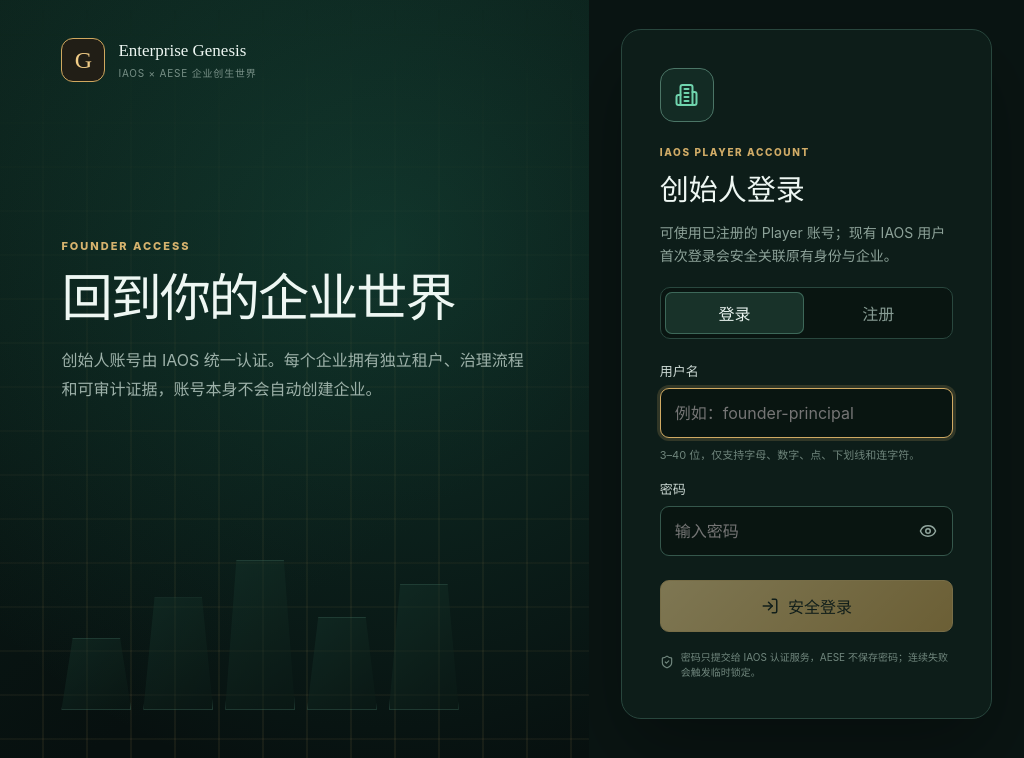
Test case: AESE game home › registers a Player identity before showing the enterprise lobby
Click the tab "注册" at (878, 313), box x1=808 y1=292 x2=948 y2=334
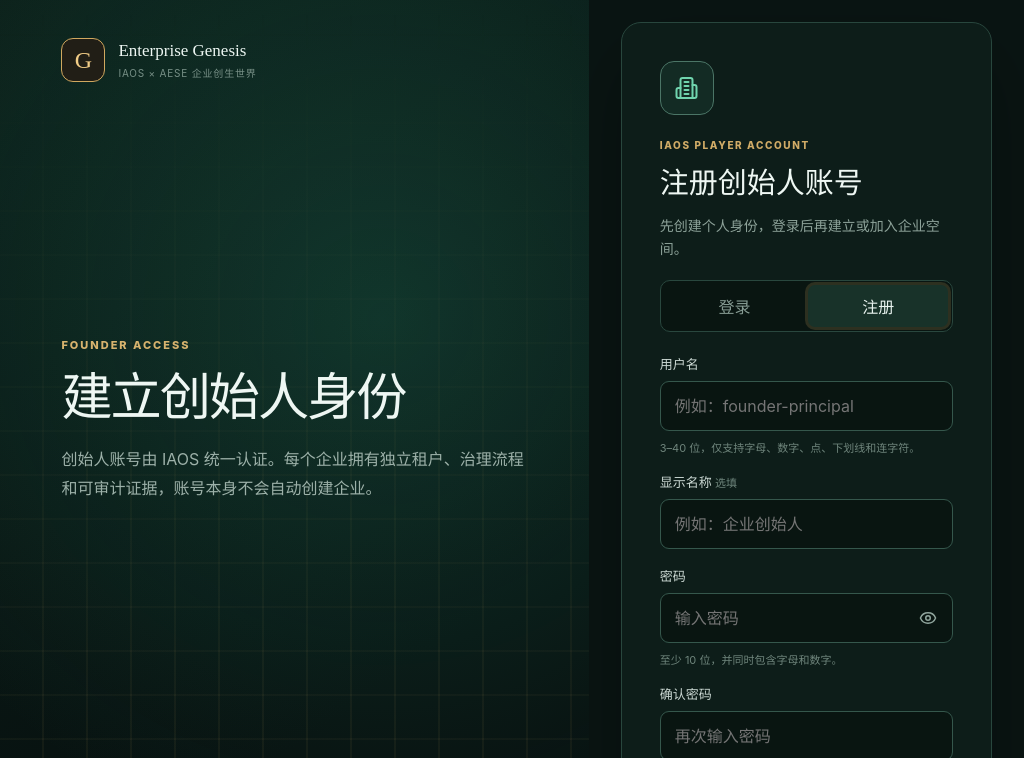
Type "new-founder" into the field labelled "用户名" at (806, 406), box x1=660 y1=381 x2=953 y2=431
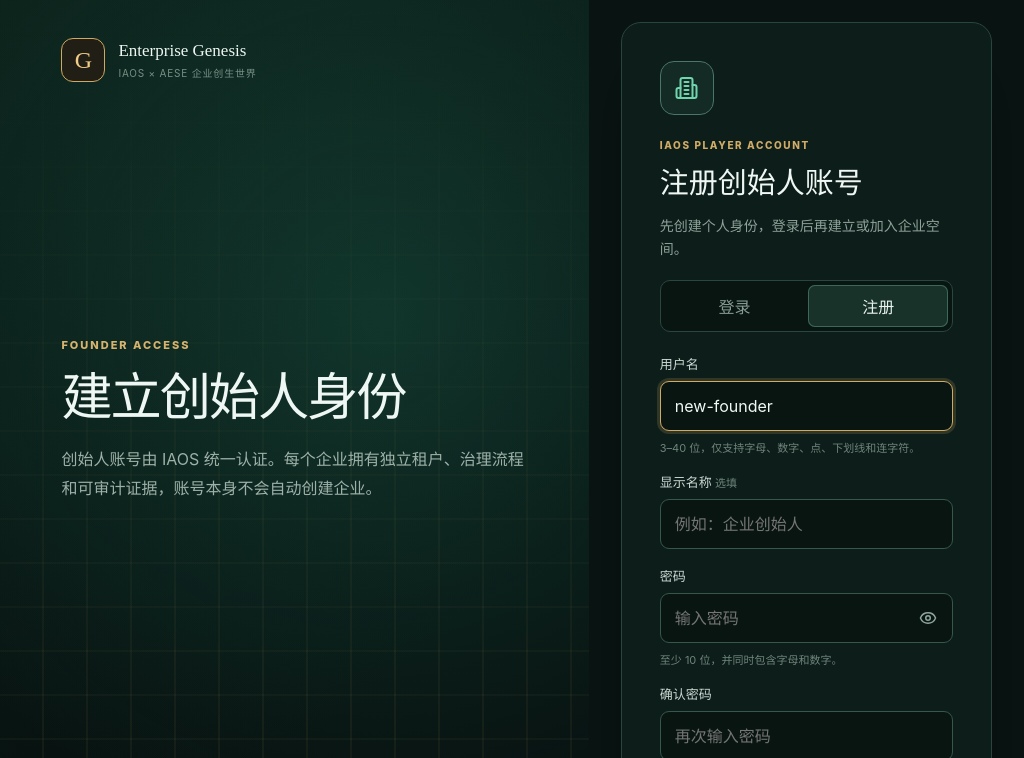
Type "新创始人" into the field labelled "显示名称 选填" at (806, 524), box x1=660 y1=499 x2=953 y2=549
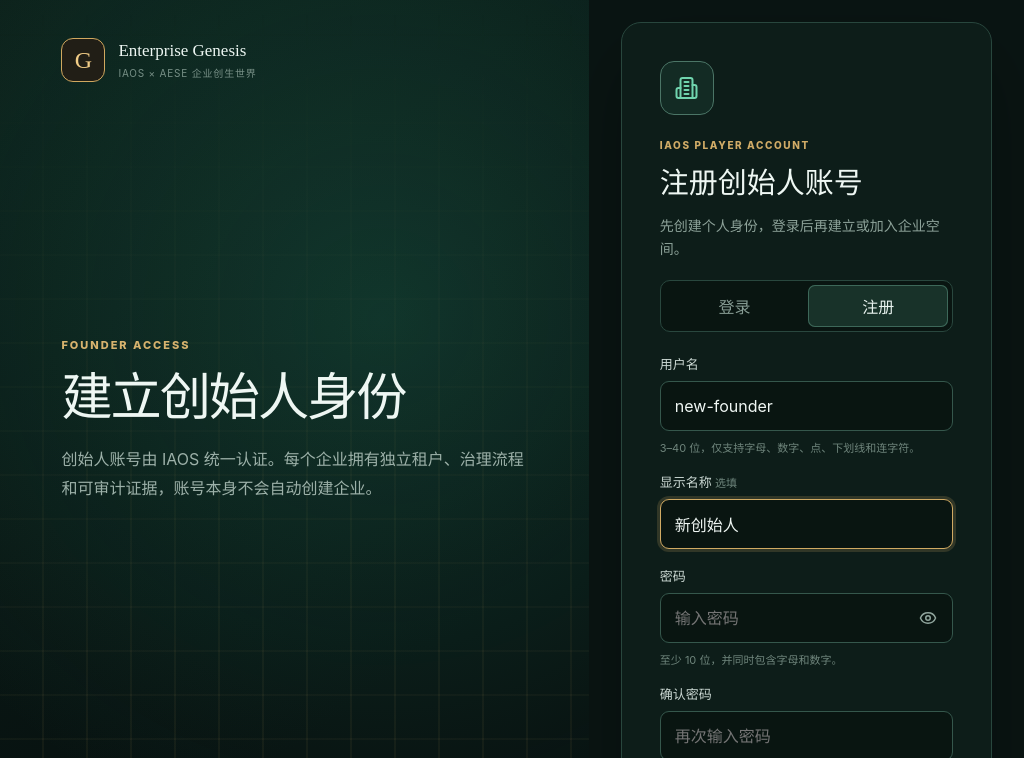
Type "NewFounder2026" into the password field labelled "密码" at (806, 618), box x1=660 y1=593 x2=953 y2=643
(page scrolled)
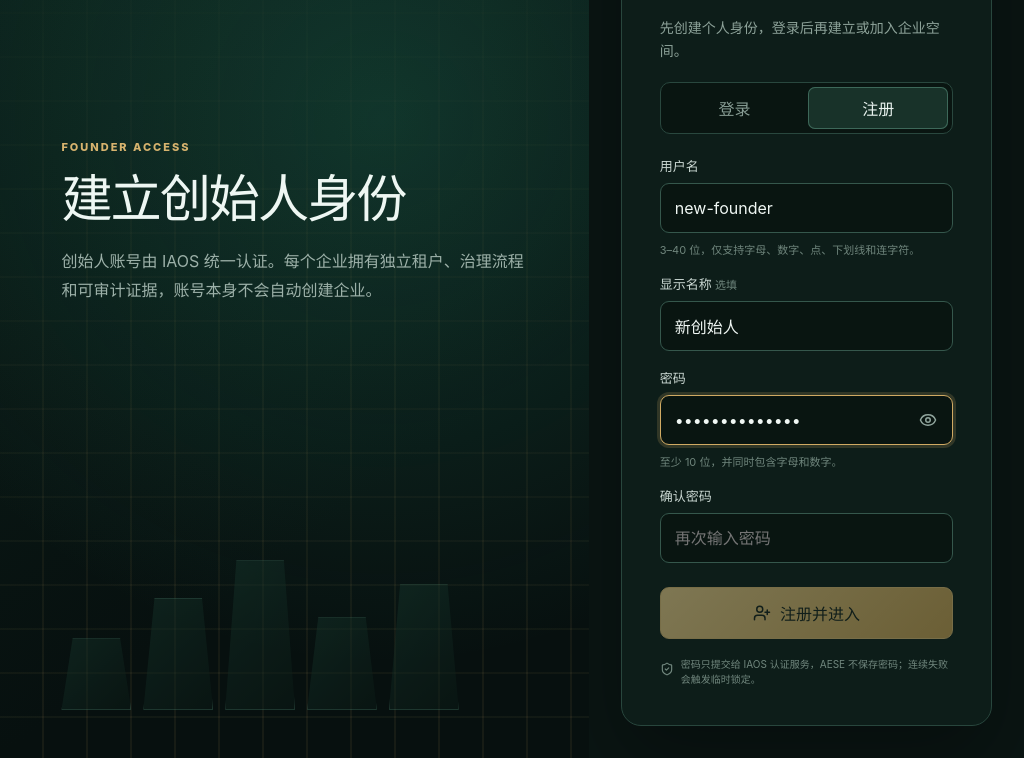
Type "NewFounder2026" into the password field labelled "确认密码" at (806, 538), box x1=660 y1=513 x2=953 y2=563
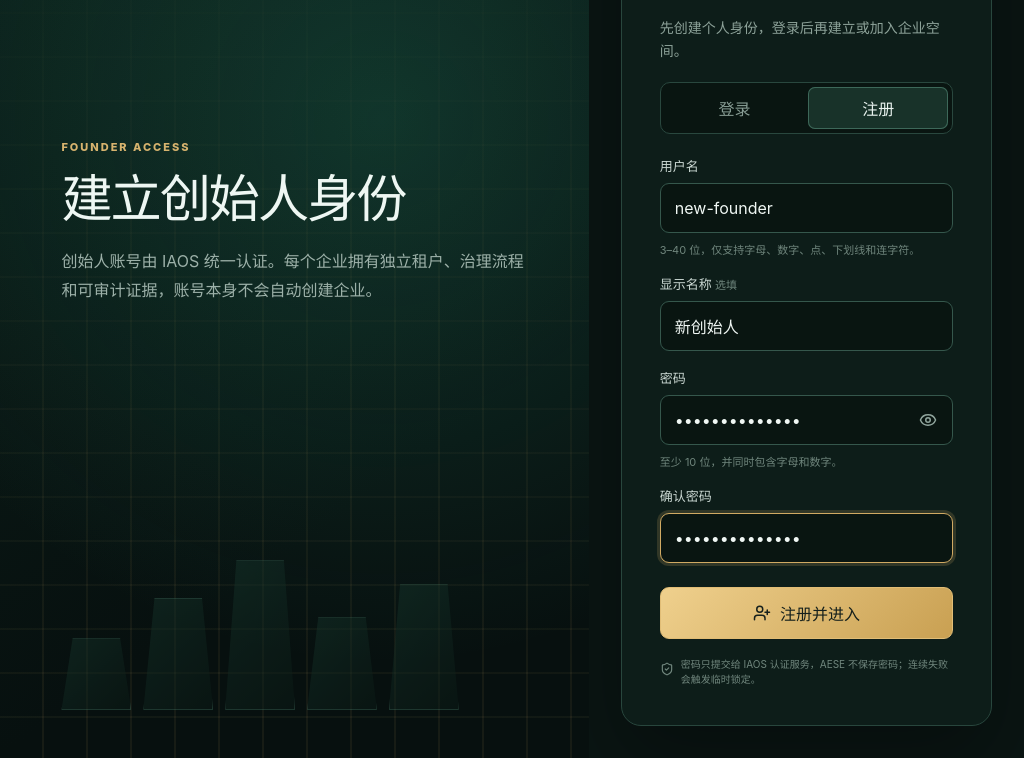
Click the button "注册并进入" at (806, 613), box x1=660 y1=587 x2=953 y2=639
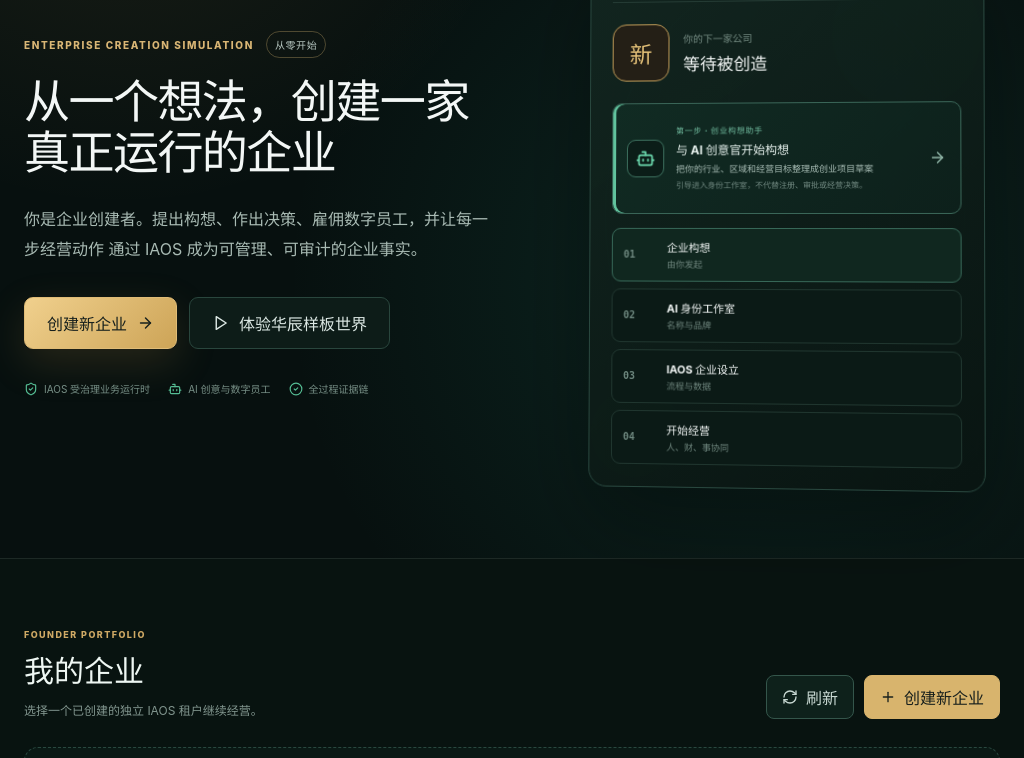
Result: the heading "我的企业" is shown at x1=24 y1=655 x2=144 y2=688
